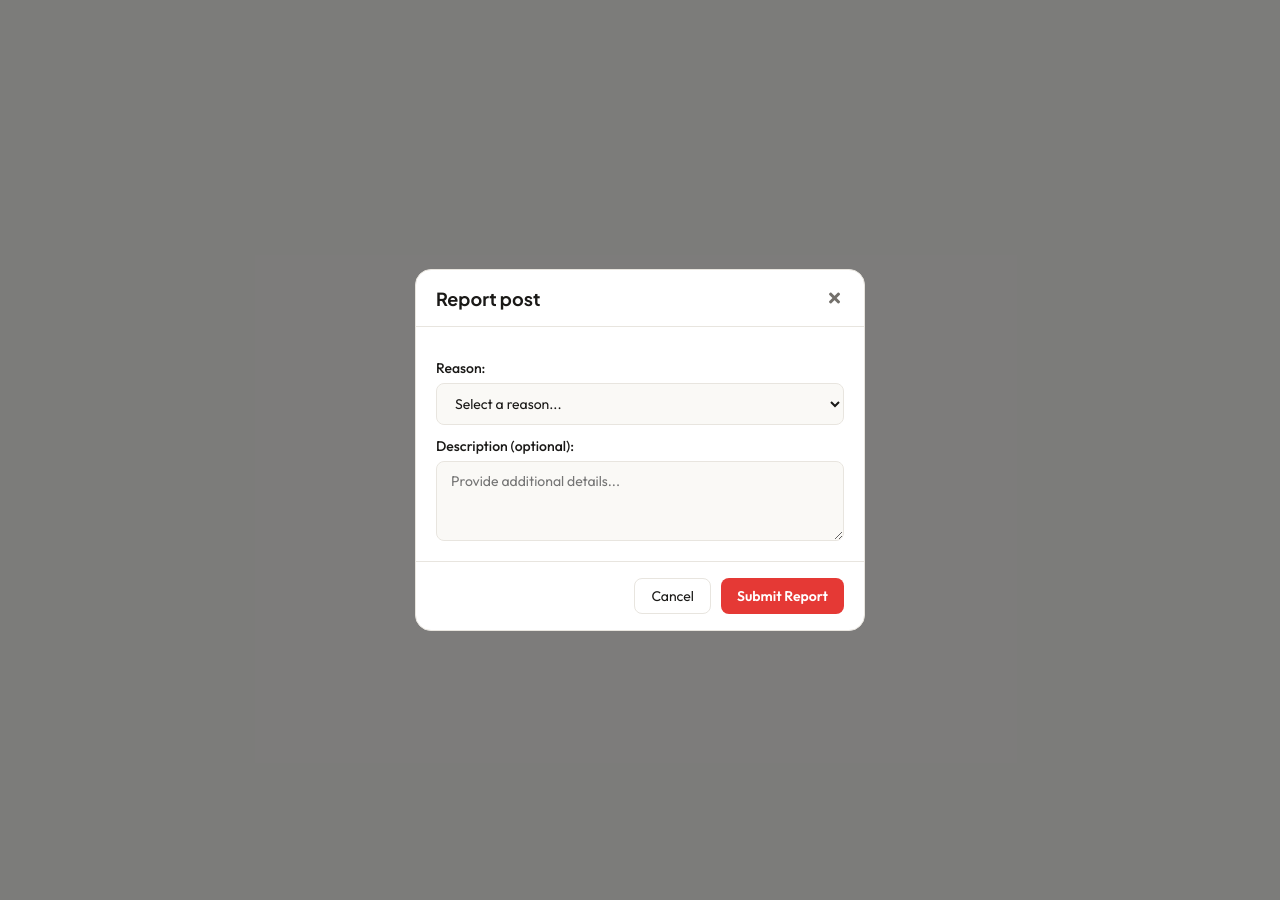
Test: ReportModal › submits report successfully
The image size is (1280, 900).
Select "Spam" in the dropdown showing "Select a reason..." at (640, 404), box left=436, top=383, right=844, bottom=425
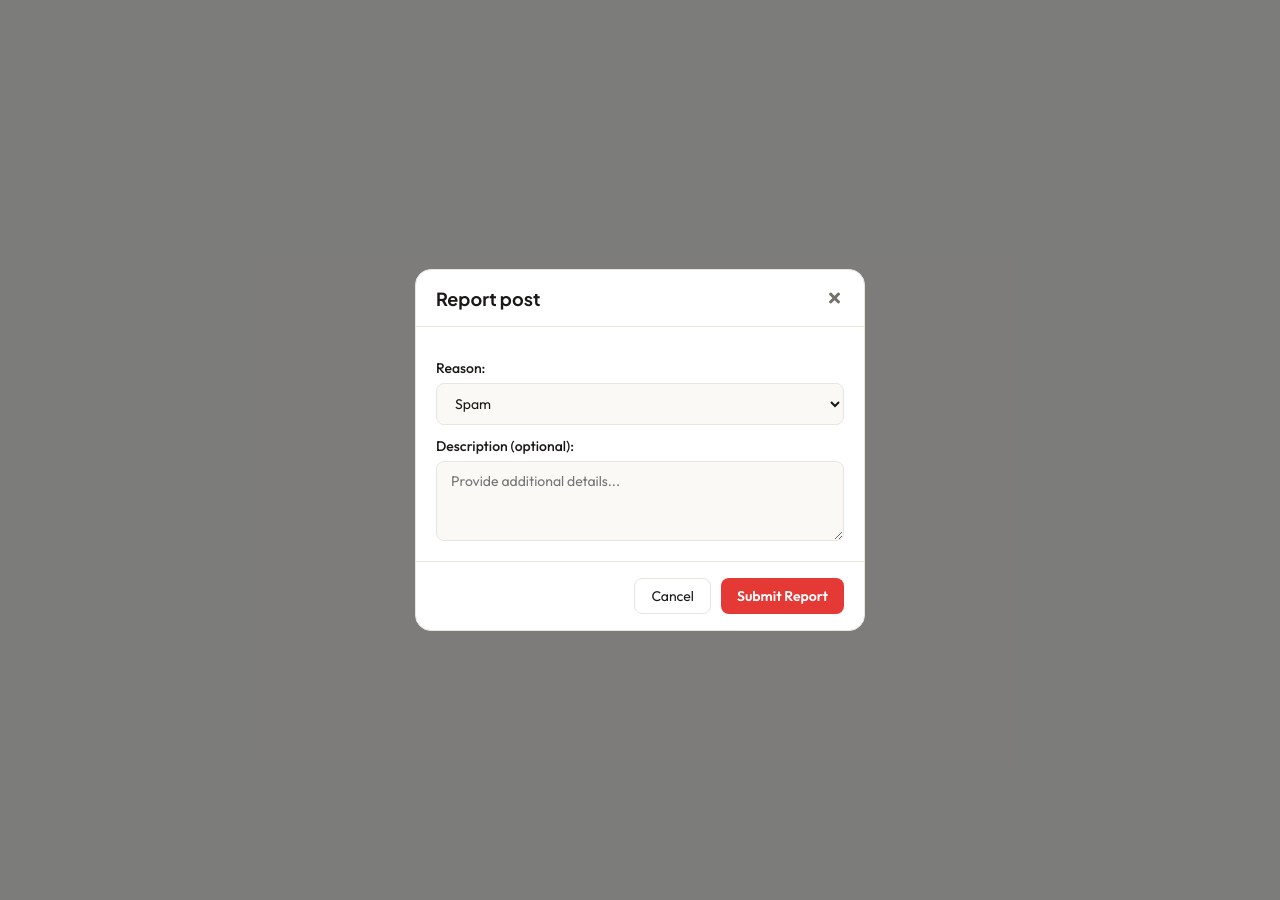
Click the button "Submit Report" at (782, 596), box left=721, top=578, right=844, bottom=614
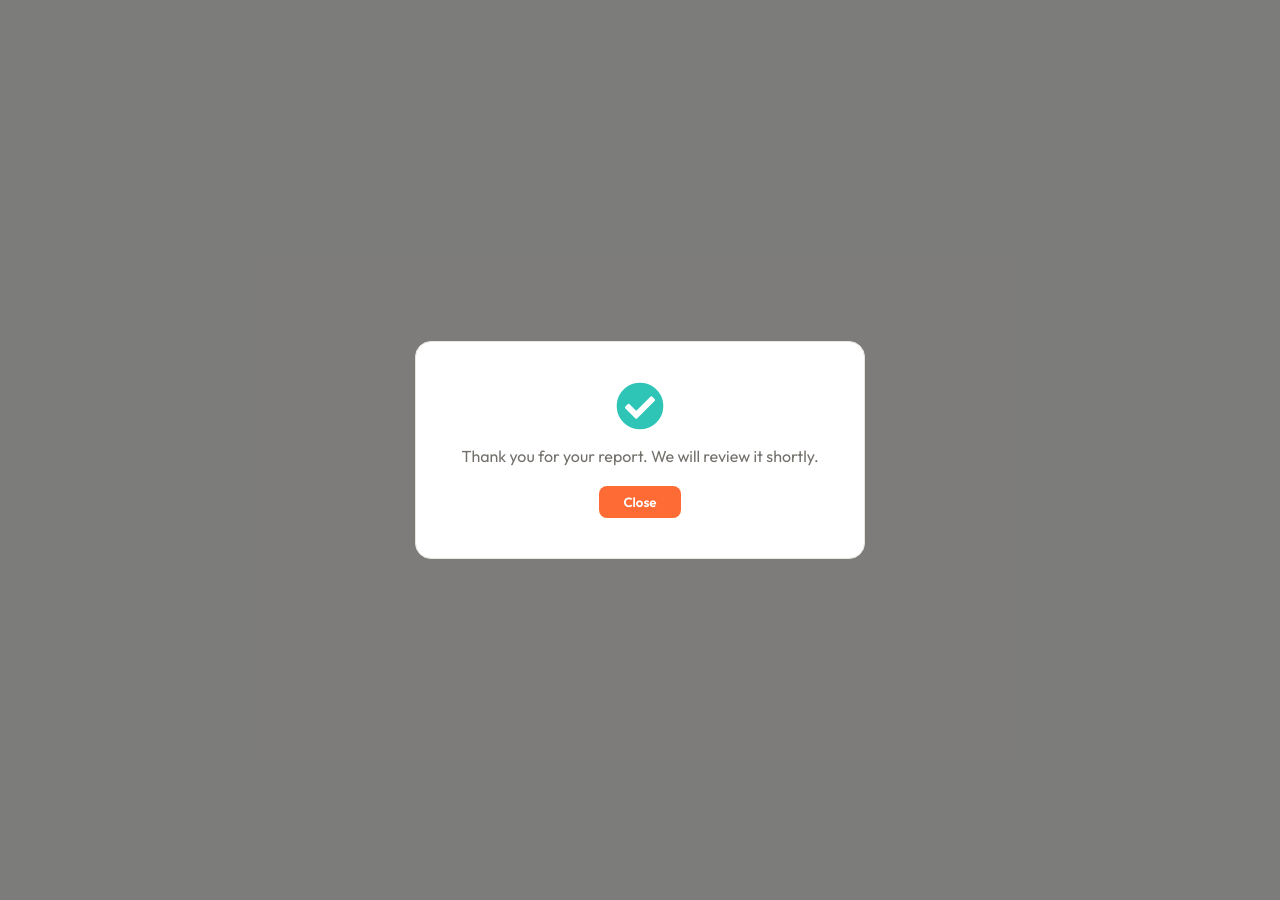
expect the text "Thank you for your report. We will review it shortly." is shown: met, box left=456, top=446, right=824, bottom=466
